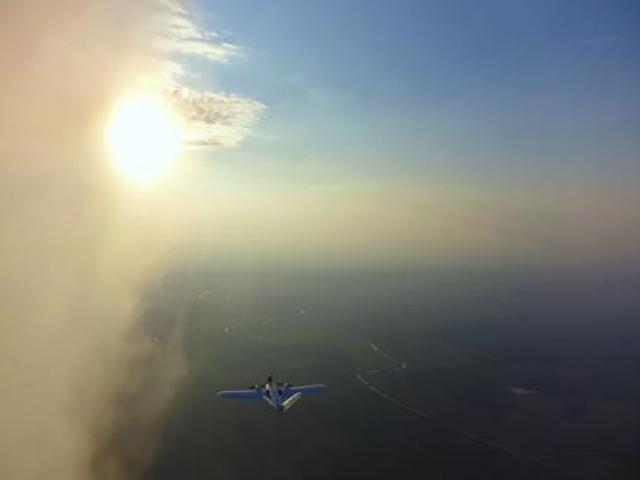uav: (215, 376, 330, 416)
